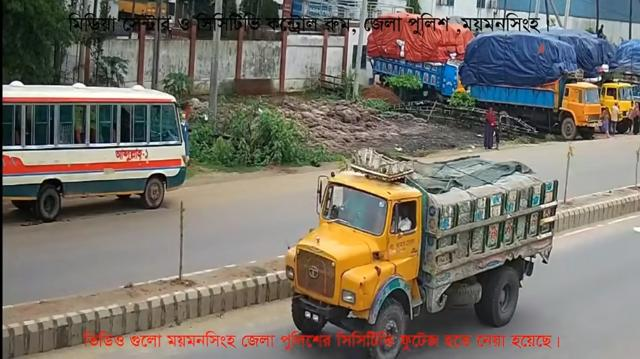bus: (0, 77, 196, 218)
truck: (273, 146, 555, 344), (456, 40, 601, 146), (363, 5, 462, 107), (599, 55, 639, 136)
